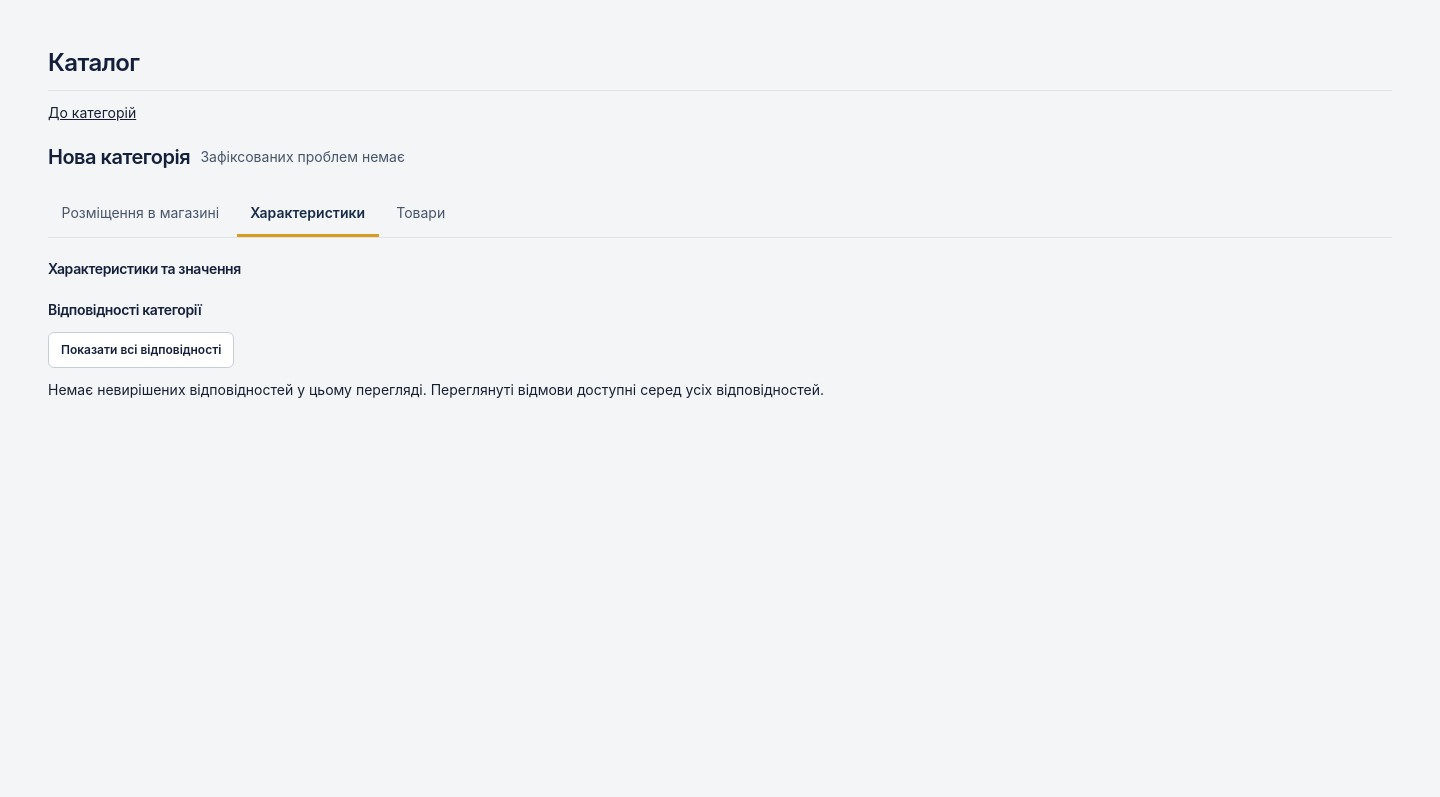
searches the entire mapping scope by stone_processing without mounting unrelated rows
This screenshot has width=1440, height=797.
Expected: the text "Немає невирішених" is shown, [48,381,824,398]
Click the button "Показати всі відповідності" at (141, 350), box [48,332,234,368]
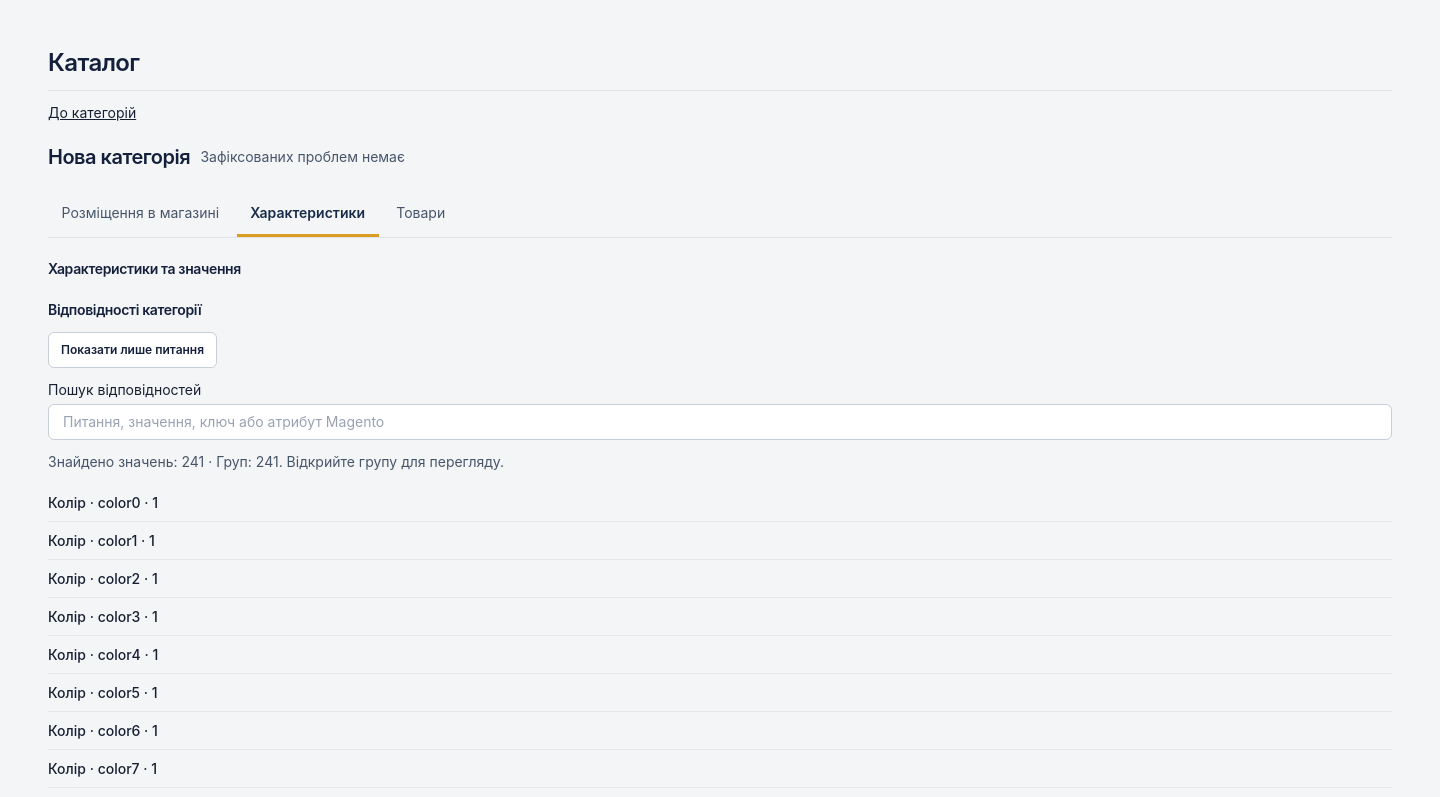
Type "stone_processing" into the search field labelled "Пошук відповідностей" at (720, 422), box [48,404,1392,440]
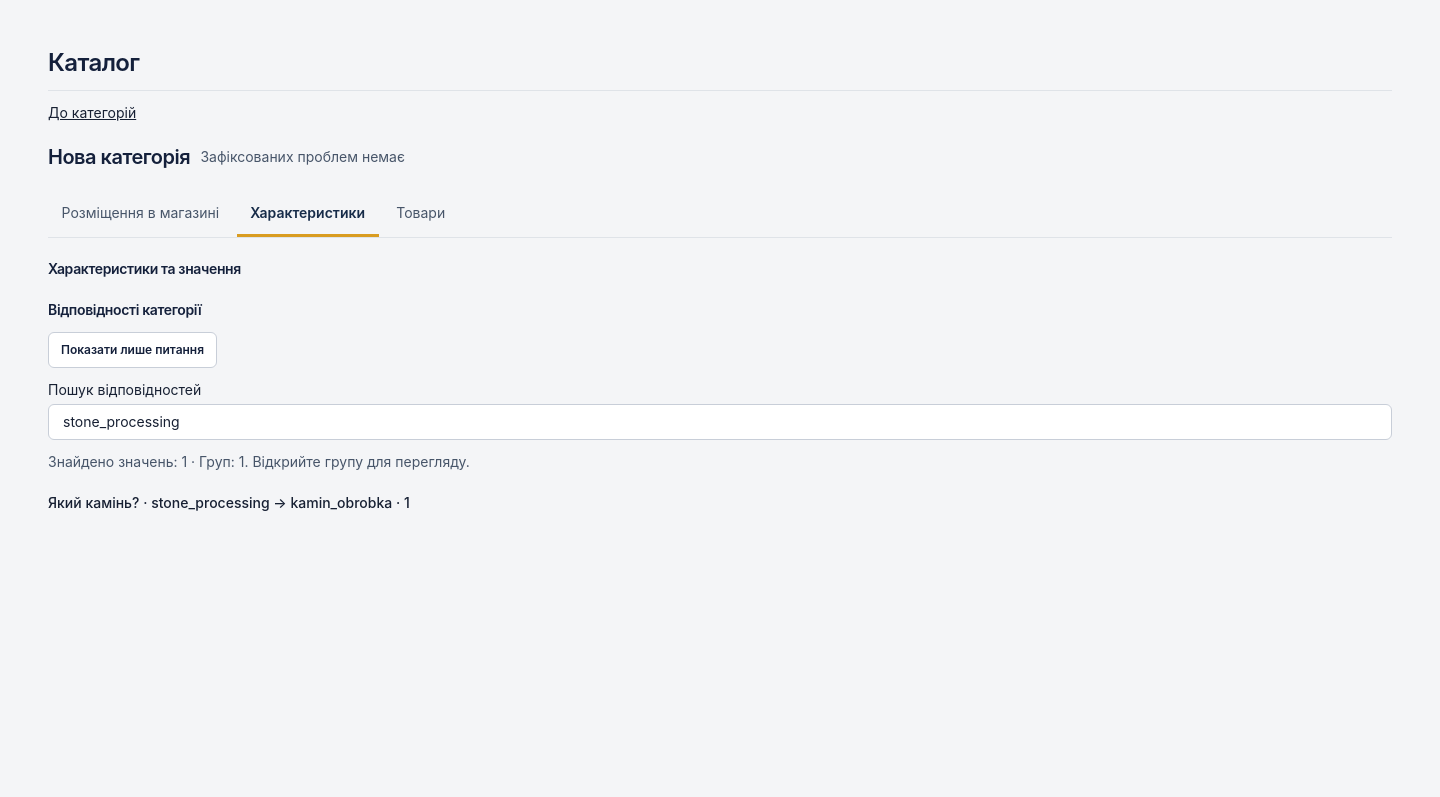
Click the button "Який камінь? · stone_processing → kamin_obrobka · 1" at (229, 503), box [48,492,410,513]
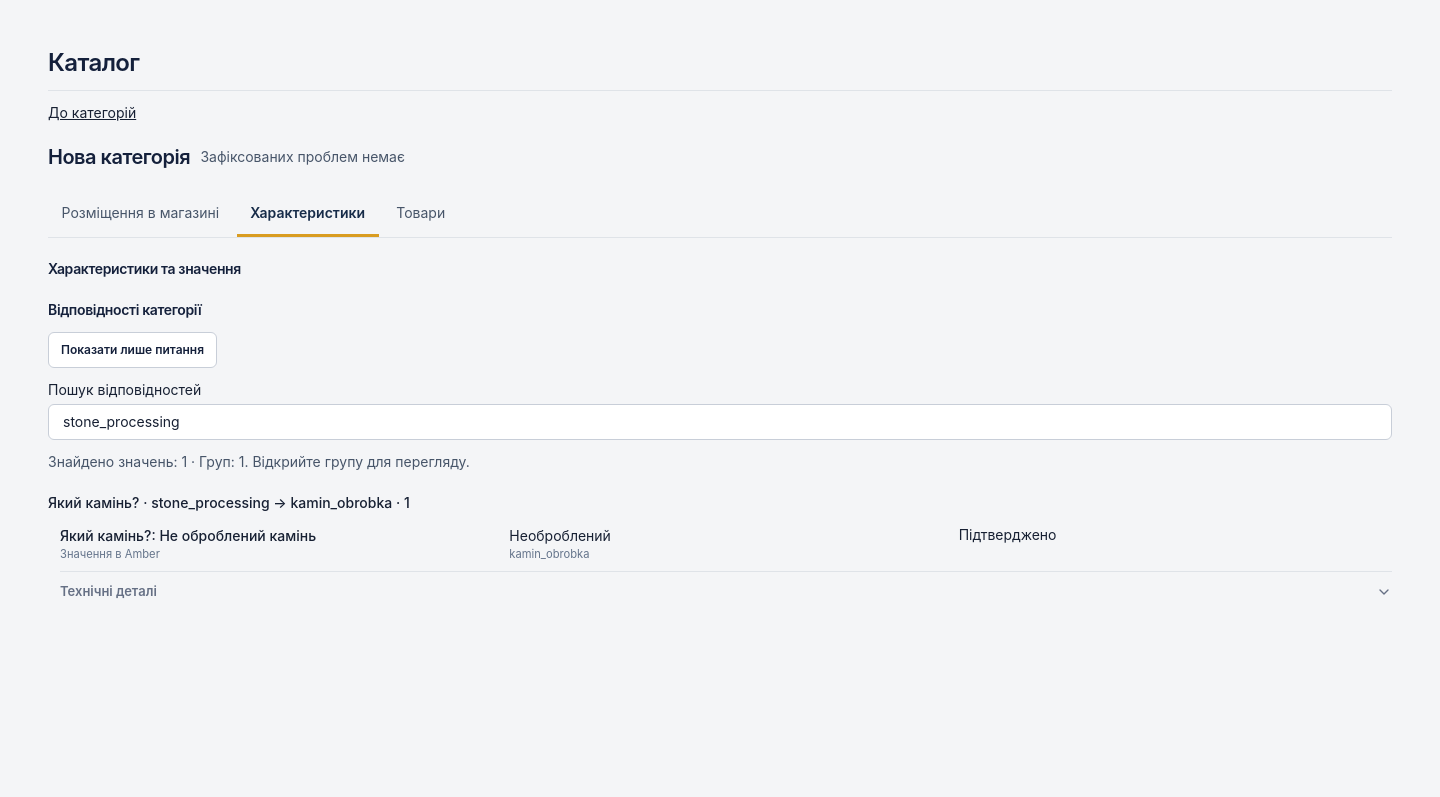
Expected: the text "value_id:" is not shown
Expected: the text "Який камінь?: Не оброблений камінь" is shown, [60,527,316,544]
Click the heading "Технічні деталі" at (108, 591), box [60,583,1392,600]
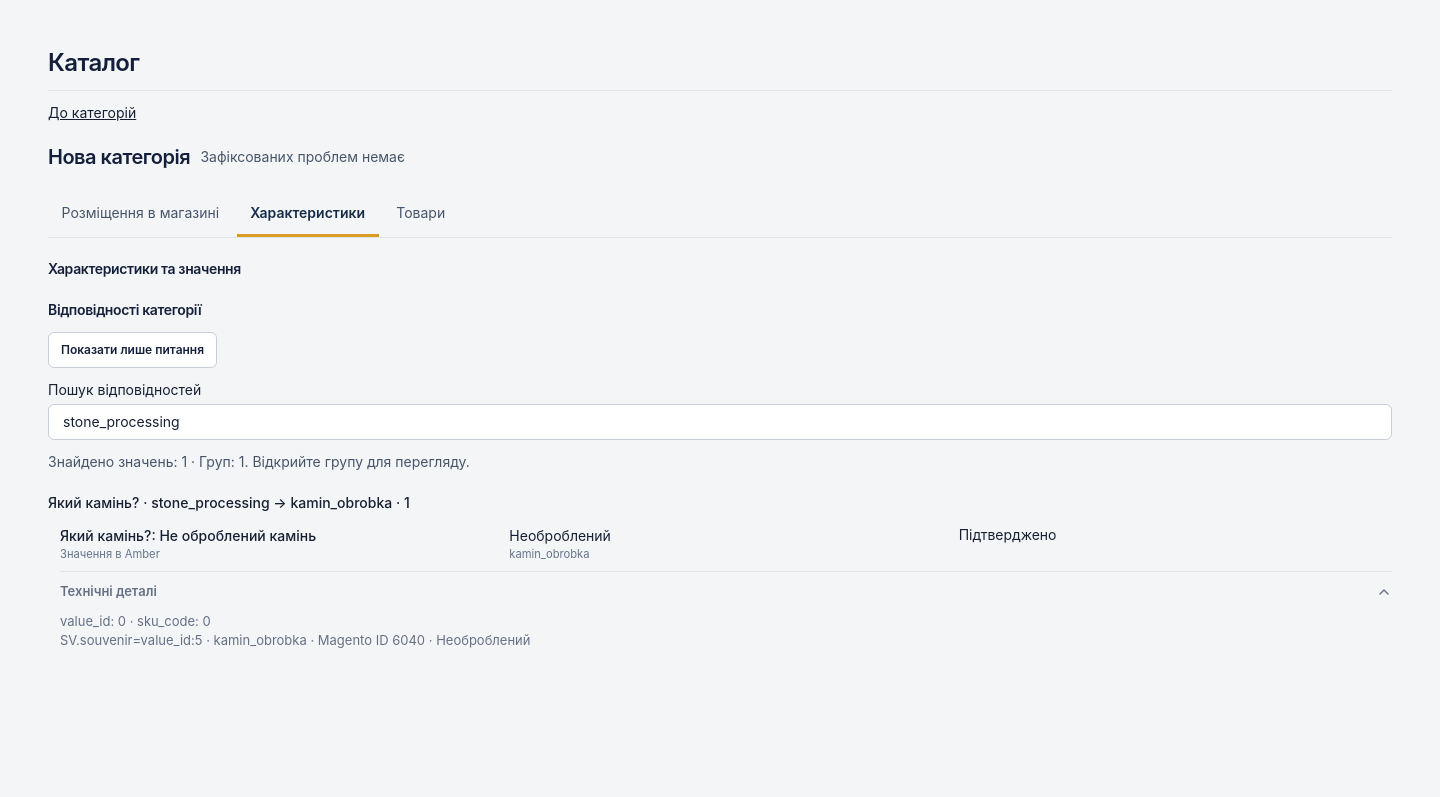
Expected: the text "Magento ID 6040" is shown, [60,632,530,648]
